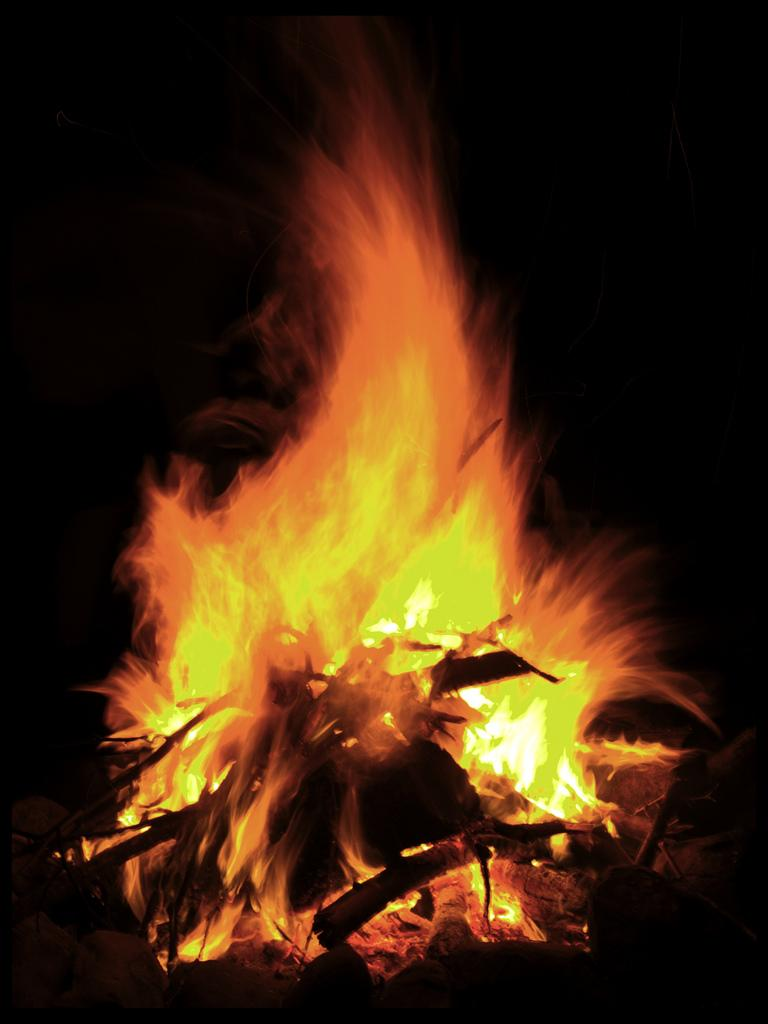fire: (272, 465, 485, 640), (482, 690, 582, 802)
